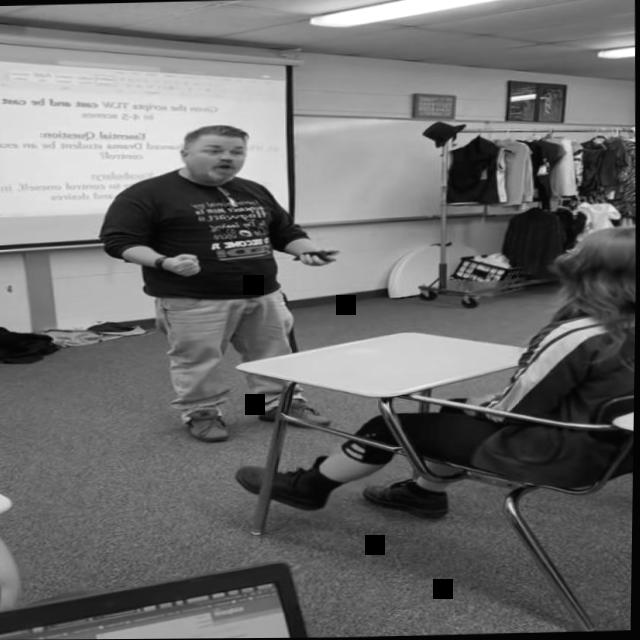NO-Mask: (182, 131, 245, 181)
